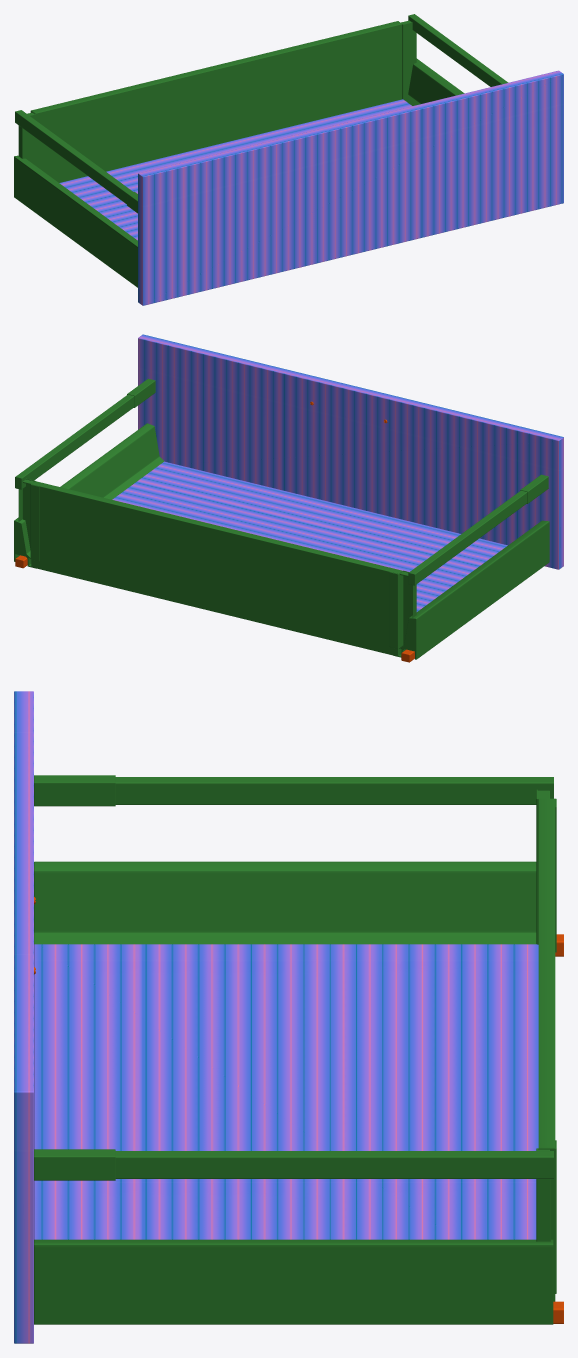
File: SM_Kitchen_11_Base_Drawer_02.fbx
3 renders of one model, top to bottom at view 1: azimuth 30°, elevation 25°; view 2: azimuth 150°, elevation 25°; view 3: azimuth 270°, elevation 25°, orthographic. The views are drawn at different scales.
Parts seen in each view (by area): view 1: SM_Kitchen_11_Base_Drawer_02; view 2: SM_Kitchen_11_Base_Drawer_02; view 3: SM_Kitchen_11_Base_Drawer_02.
Part boxes in pixels (x1,y1,x2,y2): SM_Kitchen_11_Base_Drawer_02: (14, 14, 563, 305); SM_Kitchen_11_Base_Drawer_02: (14, 334, 563, 662); SM_Kitchen_11_Base_Drawer_02: (14, 691, 563, 1343).
Bounding box in the file's own units: 89.69 × 26.3 × 51.99.
4 materials, 2 textured.
